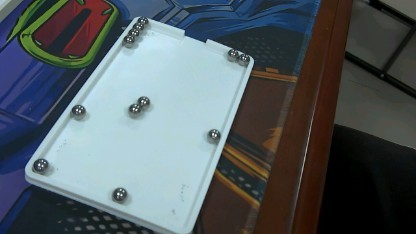ironball: (62, 102, 90, 120), (30, 153, 51, 174), (125, 24, 143, 48), (209, 125, 226, 147), (137, 92, 154, 111), (110, 184, 126, 204), (127, 99, 144, 116), (135, 11, 155, 24), (133, 19, 147, 36), (221, 47, 236, 61), (236, 51, 249, 65), (125, 33, 135, 48)
